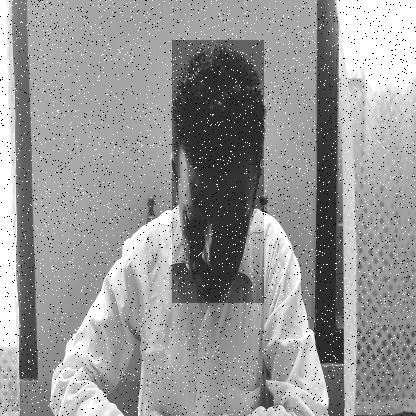Normal: (172, 40, 264, 303)
